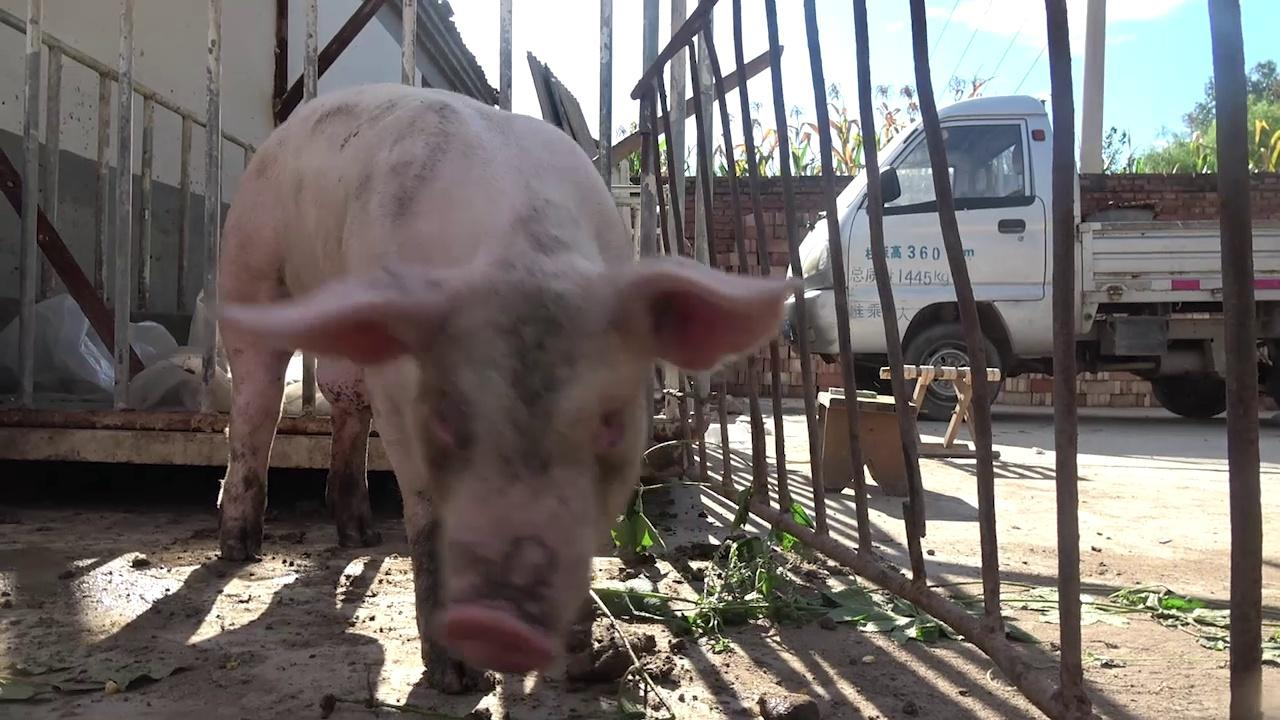Face: (223, 246, 825, 688)
